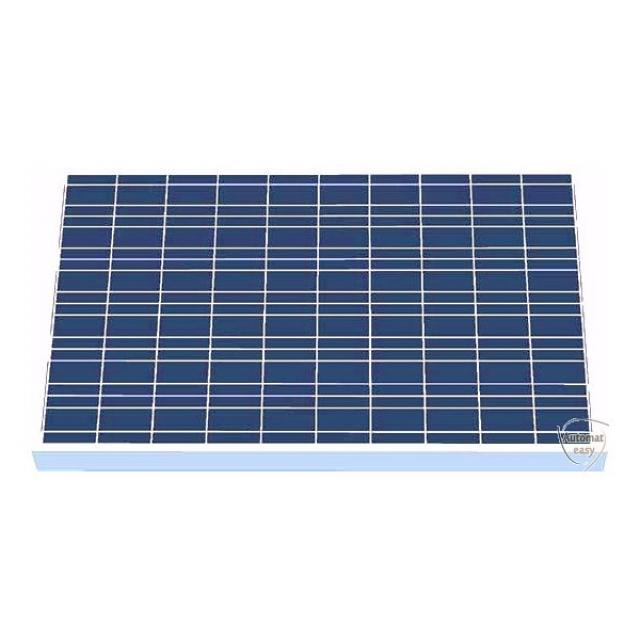no faulty: (53, 174, 593, 471)
